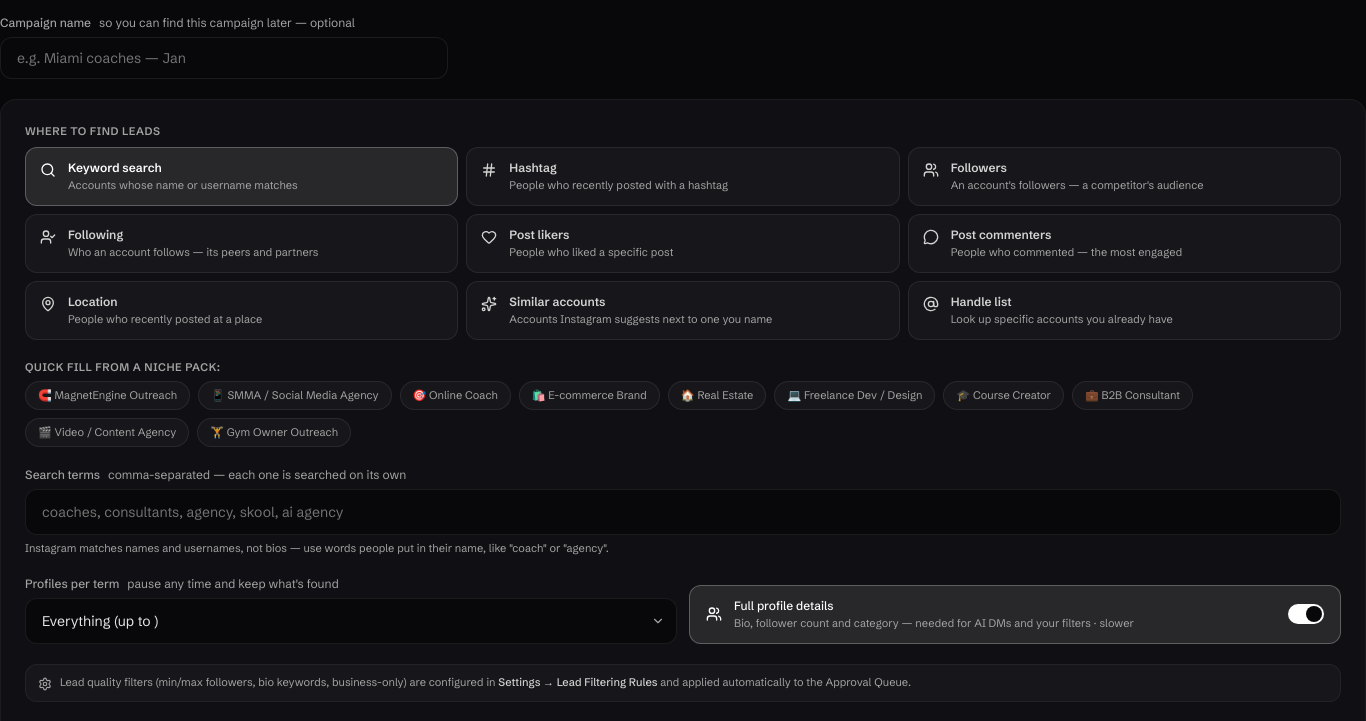
Test: CampaignBuilder › refuses a search the month's campaigns can't hold, before any lookup is spent
Click the button "Following Who an account follows — its peers and partners".
click(242, 244)  # box left=25, top=214, right=458, bottom=273
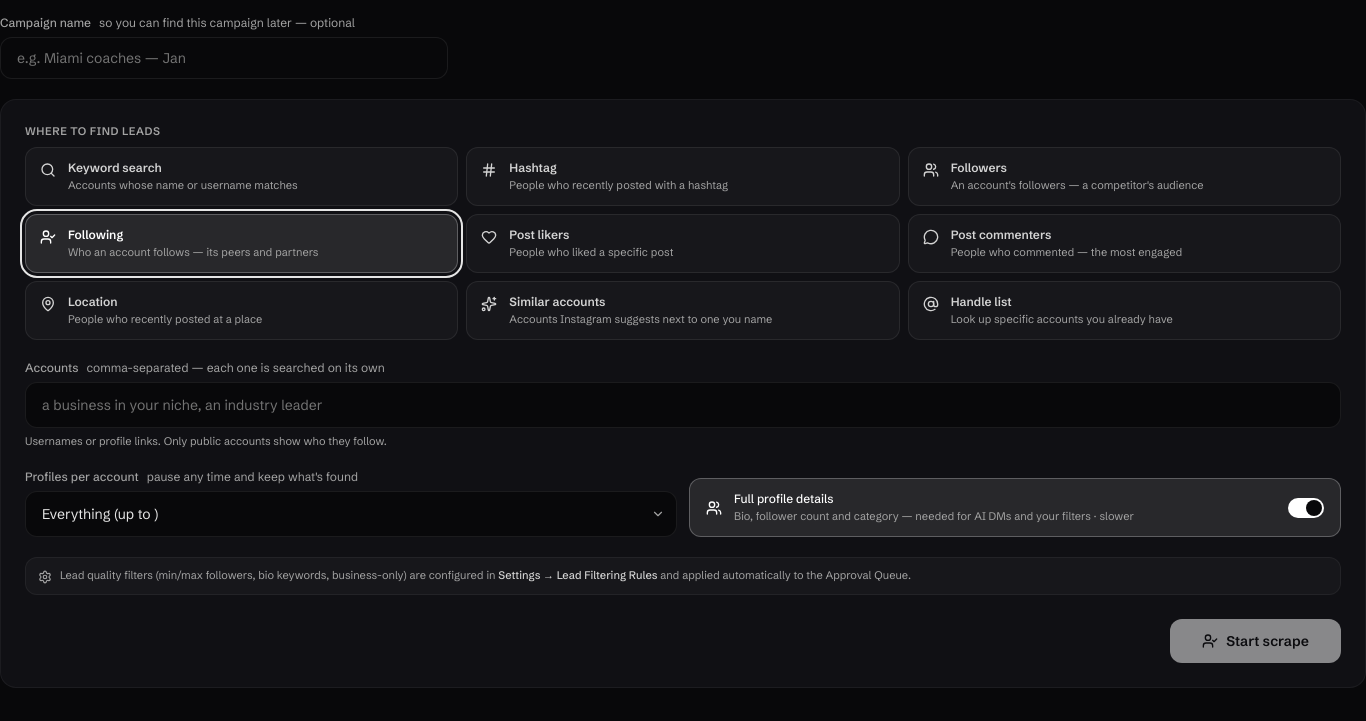
Type "@competitor" into the field labelled "Accounts".
click(683, 405); type("@competitor")  # box left=25, top=382, right=1341, bottom=428
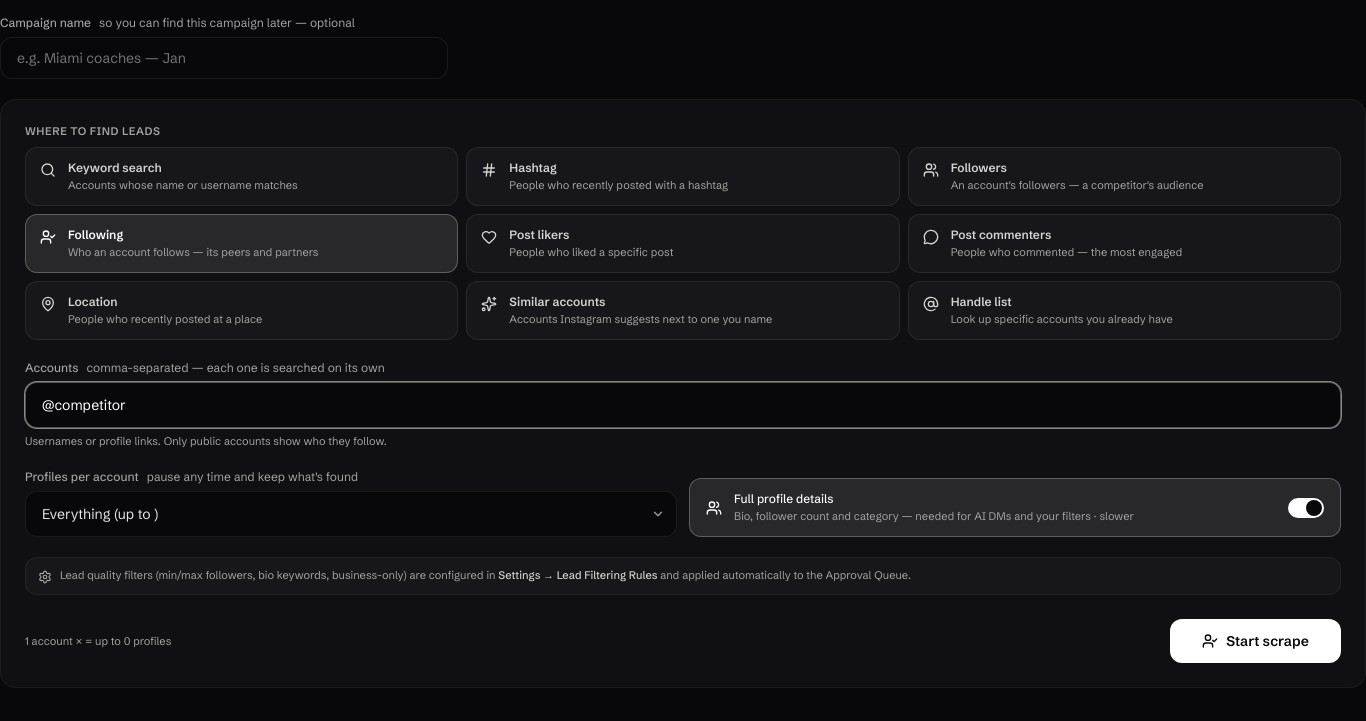
Click the button "Start scrape".
click(1256, 641)  # box left=1170, top=619, right=1341, bottom=663
(page scrolled)
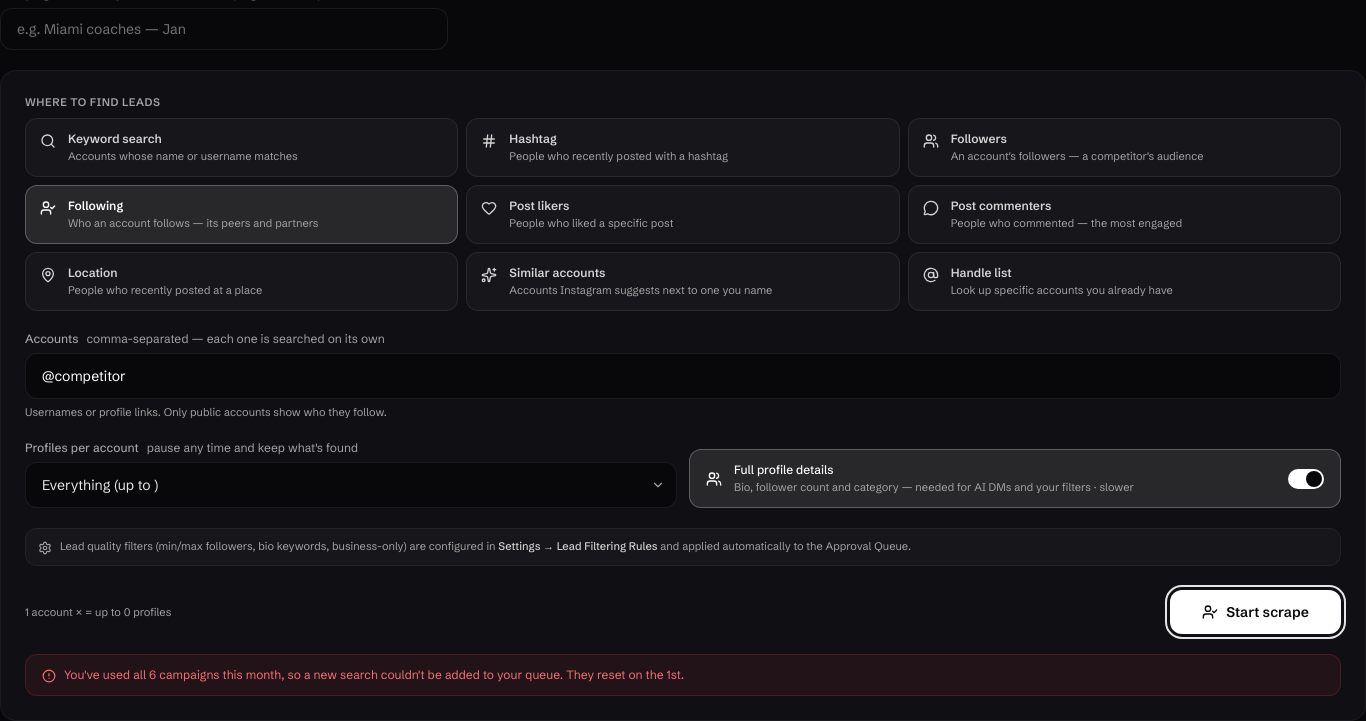
Result: the text "used all 6 campaigns this month" is shown at left=64, top=667, right=684, bottom=682
